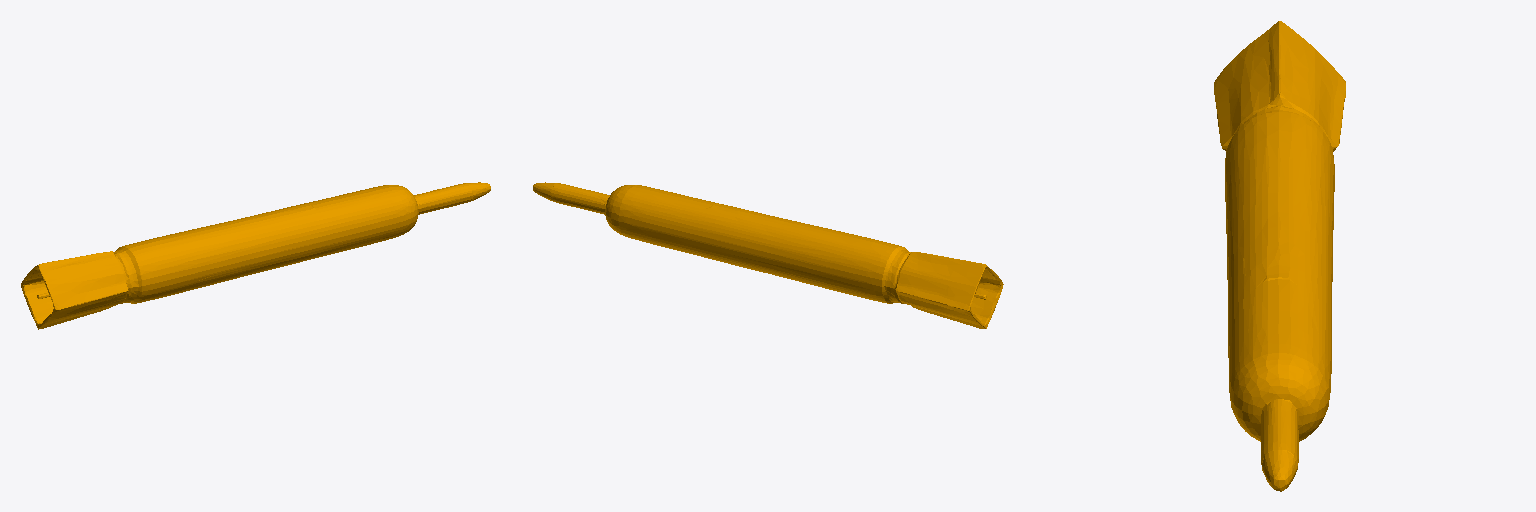
robot.urdf — staples_open:
<?xml version="1.0"?>
<robot name="staples_open">
  <link name="staples_open">
    <visual>
      <origin xyz="0 0 0" rpy="0 0 0"/>
      <geometry>
        <mesh filename="staples_open.obj" scale="1 1 1"/>
      </geometry>
    </visual>
    <collision>
      <origin xyz="0 0 0" rpy="0 0 0"/>
      <geometry>
        <mesh filename="staples_open.obj" scale="1 1 1"/>
      </geometry>
    </collision>
    <inertial>
      <density value="400.0"/>
    </inertial>
  </link>
</robot>

--- What the picture shows (computed from the rendered views, not written in the file) ---
3 views of the same robot in one strip: view 1: azimuth 30°, elevation 25°; view 2: azimuth 150°, elevation 25°; view 3: azimuth 270°, elevation 25° (orthographic).
Model staples_open with 1 links and 0 joints (none), rooted at staples_open, posed all joints at 0.
Visible links, largest first — view 1: staples_open; view 2: staples_open; view 3: staples_open.
Boxes of the visible links, <box> form: staples_open: <box>21,182,490,329</box>; staples_open: <box>533,182,1003,328</box>; staples_open: <box>1214,21,1345,491</box>.
Size in the robot's own frame: 0.1499 by 0.0207 by 0.0207 metres.
1 mesh visuals loaded from 1 distinct referenced files (1 OBJ).
